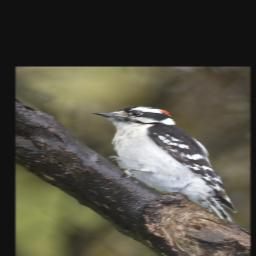Woodpecker: (92, 106, 236, 226)
